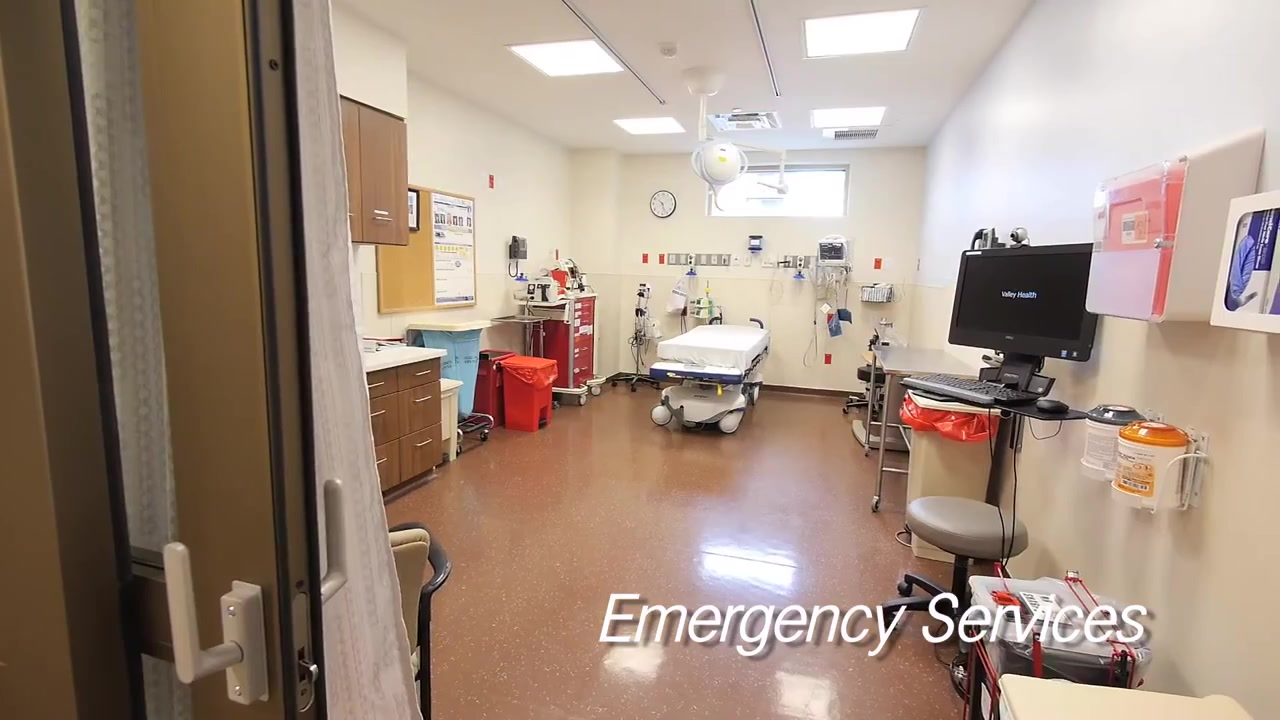bedside_monitor: (817, 240, 848, 266)
cabinet: (356, 339, 442, 491), (339, 98, 409, 246)
chair: (903, 494, 1033, 639), (386, 508, 449, 720), (856, 367, 884, 418)
computer: (950, 247, 1094, 358)
countertop: (346, 341, 449, 372)
dispenser: (1213, 194, 1280, 335)
door_handle: (163, 538, 274, 709), (316, 476, 351, 613)
handle: (370, 213, 395, 225), (409, 368, 438, 377), (365, 379, 389, 389), (370, 409, 389, 419), (414, 437, 433, 446), (414, 395, 435, 403), (374, 455, 388, 466), (581, 347, 590, 353), (581, 303, 590, 309), (581, 319, 590, 325), (581, 311, 590, 317), (581, 365, 590, 371)
keyboard: (905, 377, 1036, 403)
medical_drawer: (533, 291, 600, 391)
medical_waste_container: (1085, 129, 1266, 326)
mouse: (1037, 400, 1067, 411)
operating_bed: (652, 322, 771, 432)
surgical_light: (694, 143, 741, 184)
table: (866, 348, 980, 513)
telephone: (510, 236, 528, 260)
utility_cart: (412, 319, 495, 448), (491, 313, 547, 361)
waste_bin: (900, 391, 999, 563), (417, 319, 495, 415), (503, 357, 553, 429), (476, 349, 516, 422), (440, 378, 463, 462)
